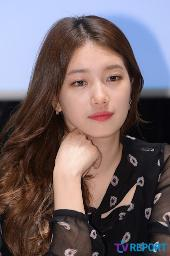face: (62, 46, 128, 134)
